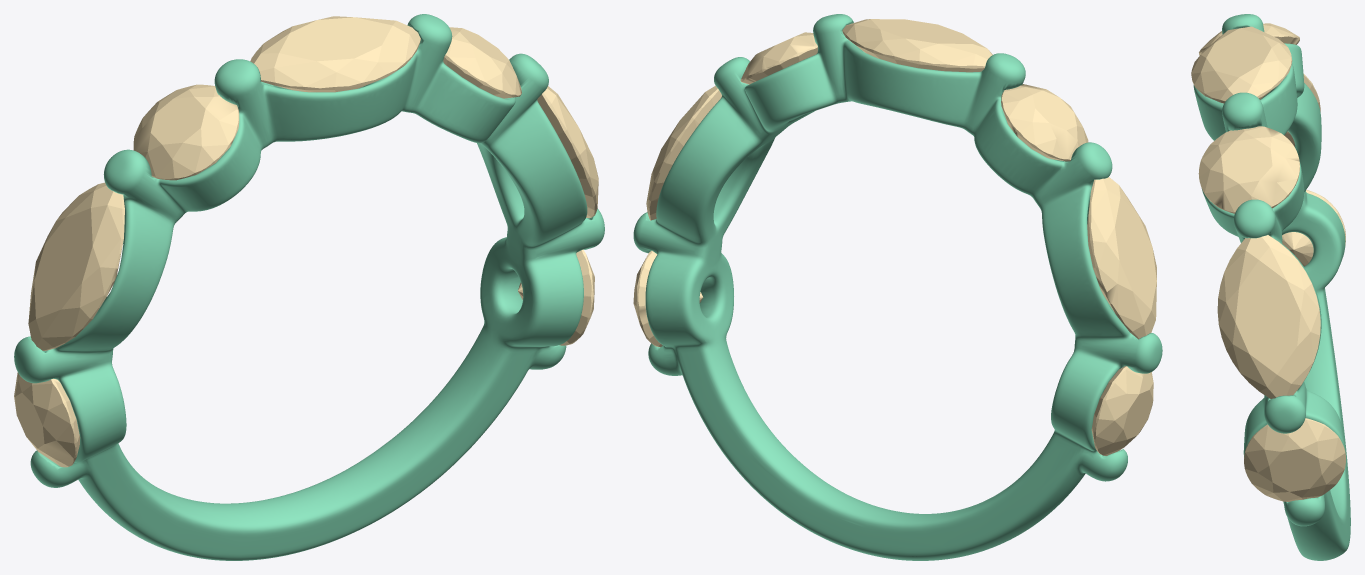
3 views of the same model, side by side, from view 1: azimuth 30°, elevation 25°; view 2: azimuth 150°, elevation 25°; view 3: azimuth 270°, elevation 25° (orthographic). The views are drawn at different scales.
Visible parts, largest first — view 1: Metal02, Diamond_Round.006, Diamond_Round.004, Diamond_Round, Diamond_Round.001, Diamond_Round.003, Diamond_Round.005, Diamond_Round.002; view 2: Metal02, Diamond_Round.006, Diamond_Round.004, Diamond_Round, Diamond_Round.001, Diamond_Round.005, Diamond_Round.003, Diamond_Round.002; view 3: Metal02, Diamond_Round.005, Diamond_Round.003, Diamond_Round.002, Diamond_Round.004, Diamond_Round.001, Diamond_Round, Diamond_Round.006.
Boxes of the visible parts, x1,y1,x2,y2 form: Metal02: (14,14,604,560); Diamond_Round.006: (28,182,124,350); Diamond_Round.004: (250,16,420,92); Diamond_Round: (133,84,239,180); Diamond_Round.001: (14,372,80,467); Diamond_Round.003: (443,27,521,98); Diamond_Round.005: (537,86,598,217); Diamond_Round.002: (518,249,594,345); Metal02: (633,14,1162,560); Diamond_Round.006: (1087,177,1156,339); Diamond_Round.004: (842,19,992,72); Diamond_Round: (1001,84,1088,161); Diamond_Round.001: (1091,366,1153,455); Diamond_Round.005: (646,86,721,220); Diamond_Round.003: (740,32,817,84); Diamond_Round.002: (633,250,703,347); Metal02: (1193,14,1350,560); Diamond_Round.005: (1217,235,1320,398); Diamond_Round.003: (1198,126,1299,213); Diamond_Round.002: (1244,418,1345,501); Diamond_Round.004: (1191,26,1292,103); Diamond_Round.001: (1282,190,1345,266); Diamond_Round: (1199,23,1299,55); Diamond_Round.006: (1284,73,1320,146).
Size of the model in its own units: 23.19 by 21.12 by 6.26.
